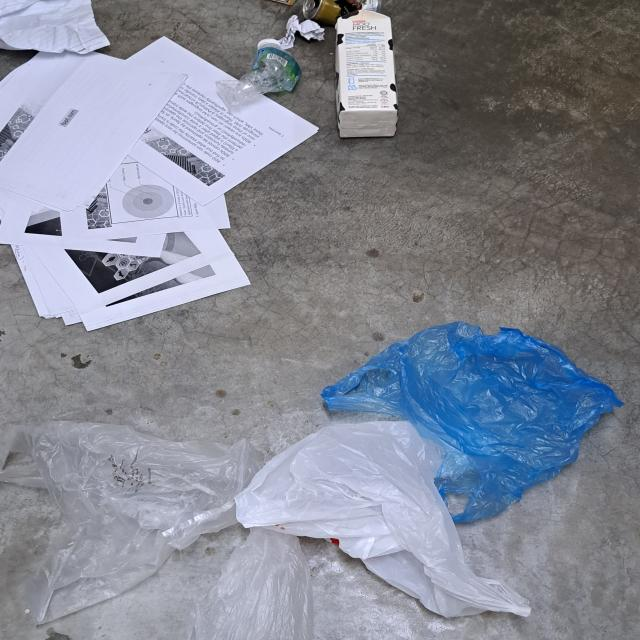can: (302, 0, 383, 24)
drink carton: (335, 2, 399, 138)
paper: (0, 36, 322, 332), (0, 0, 110, 53), (279, 14, 326, 48)
plastic bag: (323, 319, 625, 526), (238, 422, 532, 622), (0, 420, 265, 628)
plastic bottle: (215, 44, 303, 108)
plastic bottle cap: (258, 38, 280, 50)
pop tab: (305, 2, 315, 12)
